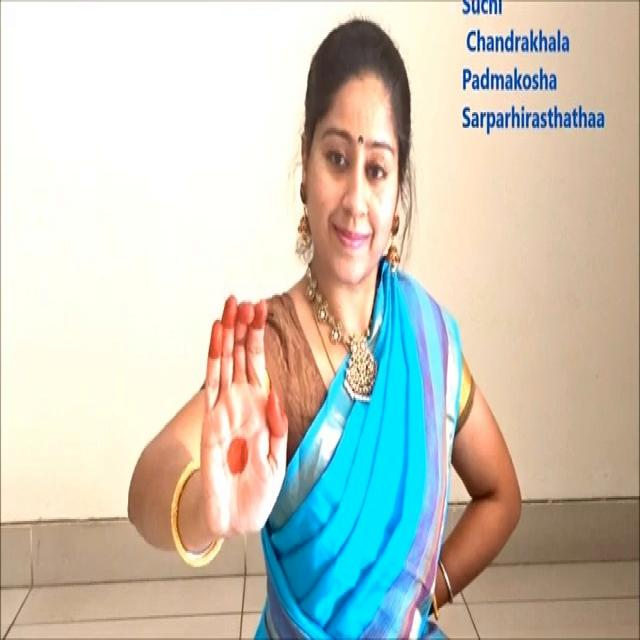Sarpashirsha: (194, 273, 290, 550)
lady: (282, 11, 429, 282)
text: (452, 0, 613, 140)
